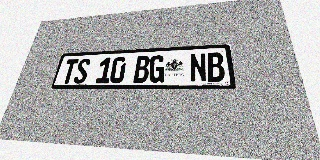0: (109, 57, 127, 83)
1: (95, 57, 113, 83)
B: (206, 52, 225, 82), (133, 56, 150, 83)
G: (148, 55, 165, 83)
N: (190, 53, 207, 82)
S: (73, 58, 91, 84)
T: (60, 59, 79, 84)
